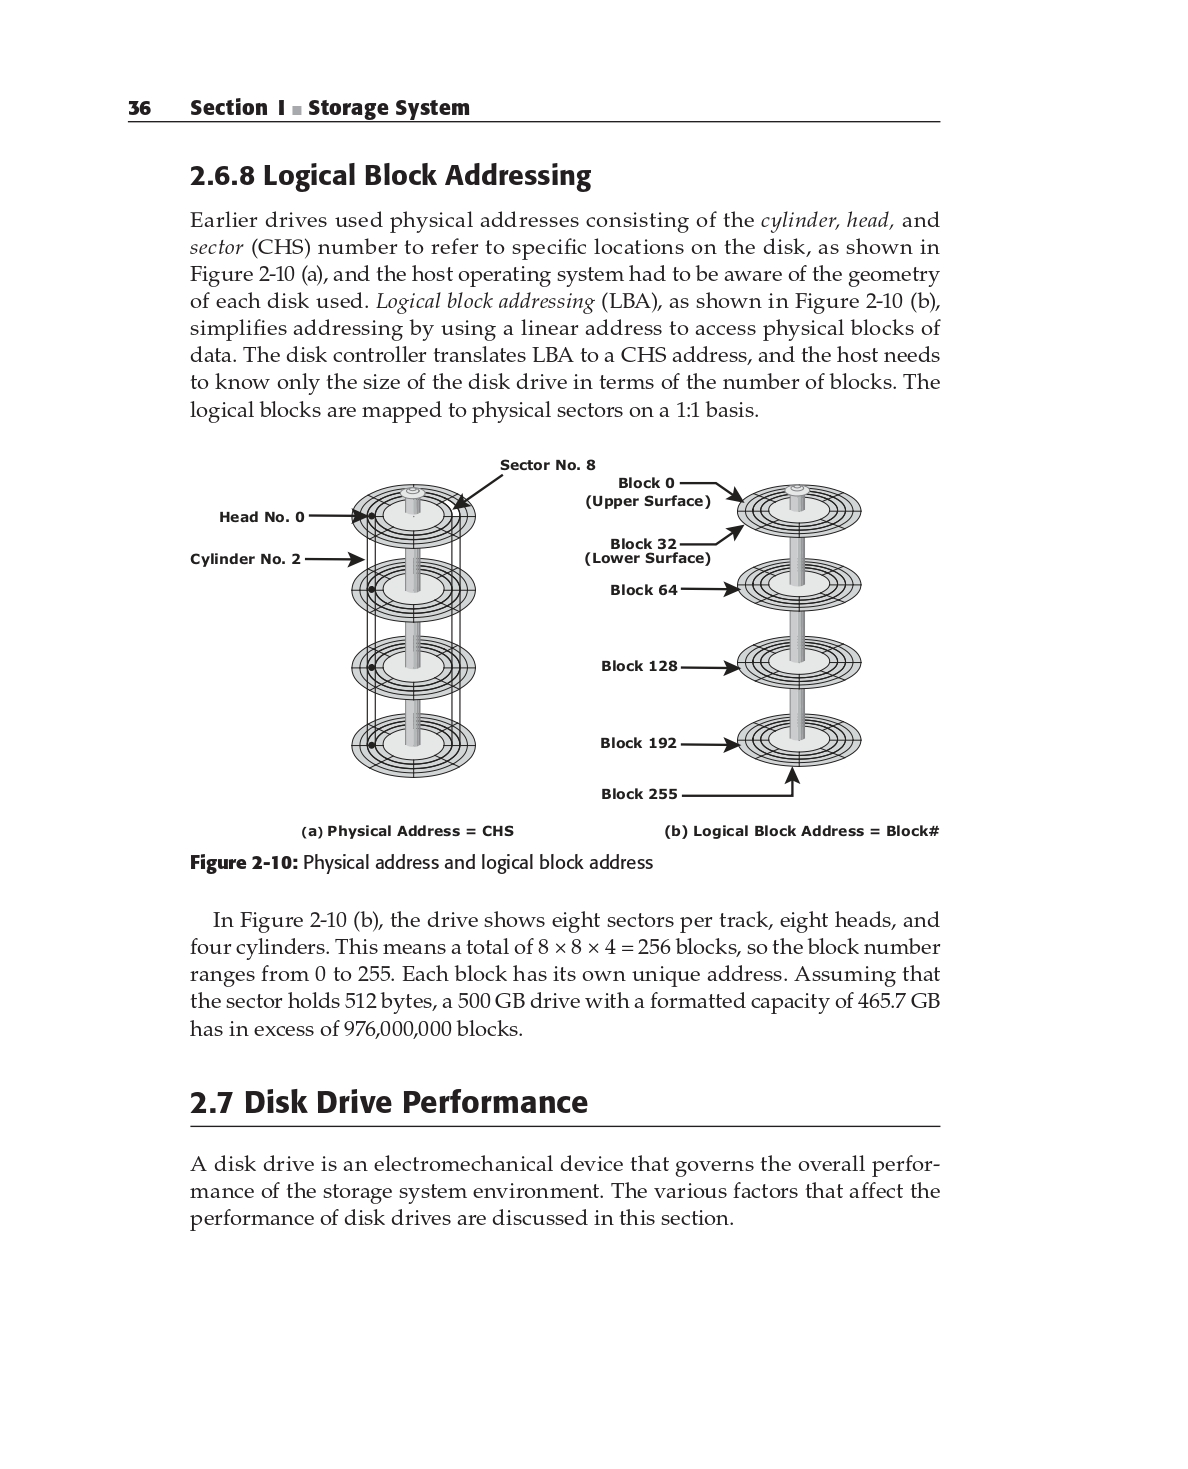Image: (330, 444, 870, 798)
Paragraph: (181, 207, 949, 421), (190, 903, 952, 1046), (178, 1148, 947, 1227), (184, 143, 611, 205), (161, 839, 690, 888), (178, 1078, 605, 1125), (120, 81, 473, 120), (645, 814, 952, 847), (290, 812, 520, 847)
